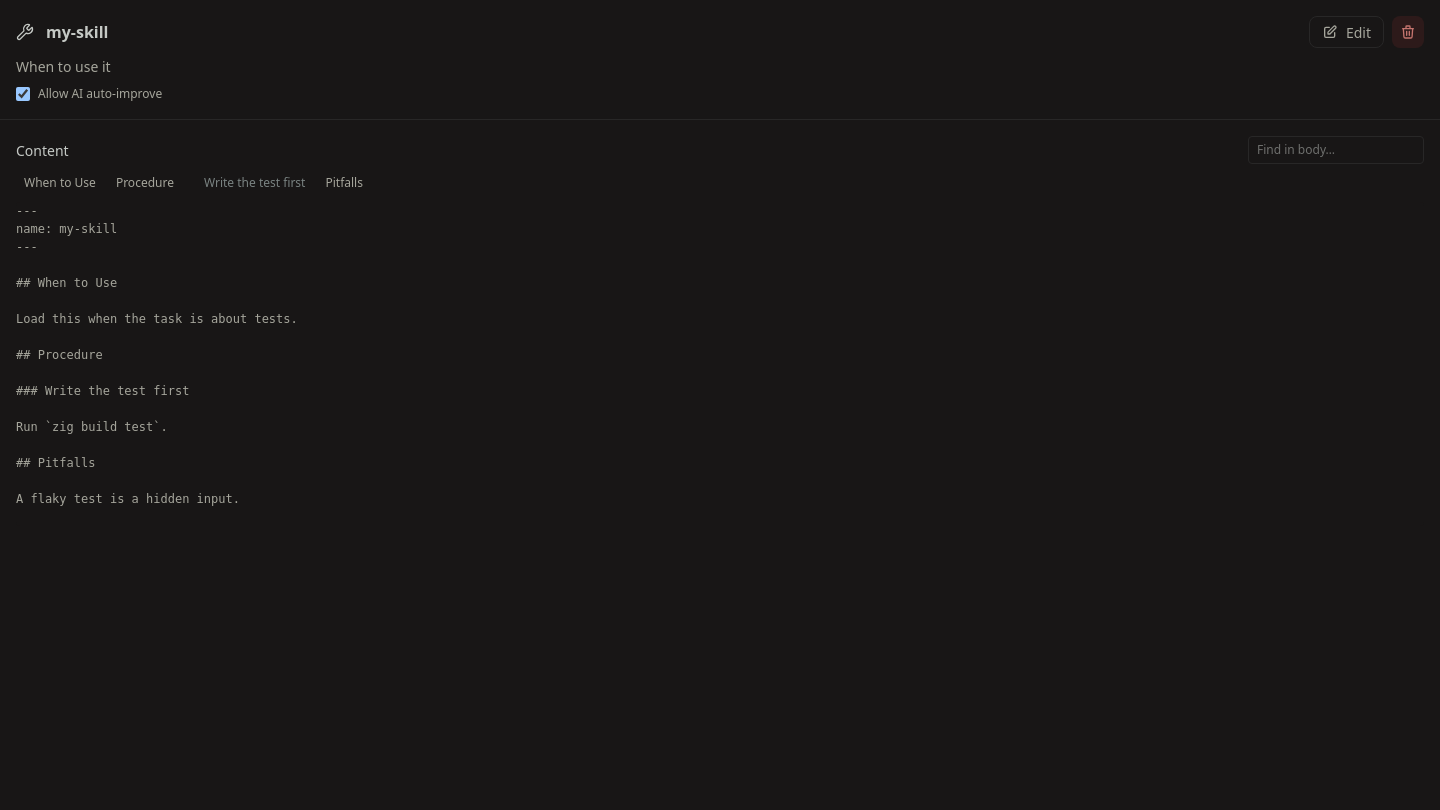
Scenario: SkillDetail — finding text in the body › lists every line containing the term
The width and height of the screenshot is (1440, 810).
Type "test" into the field with test id "skill-body-find".
click(1336, 150); type("test")  # box [1248, 136, 1424, 164]
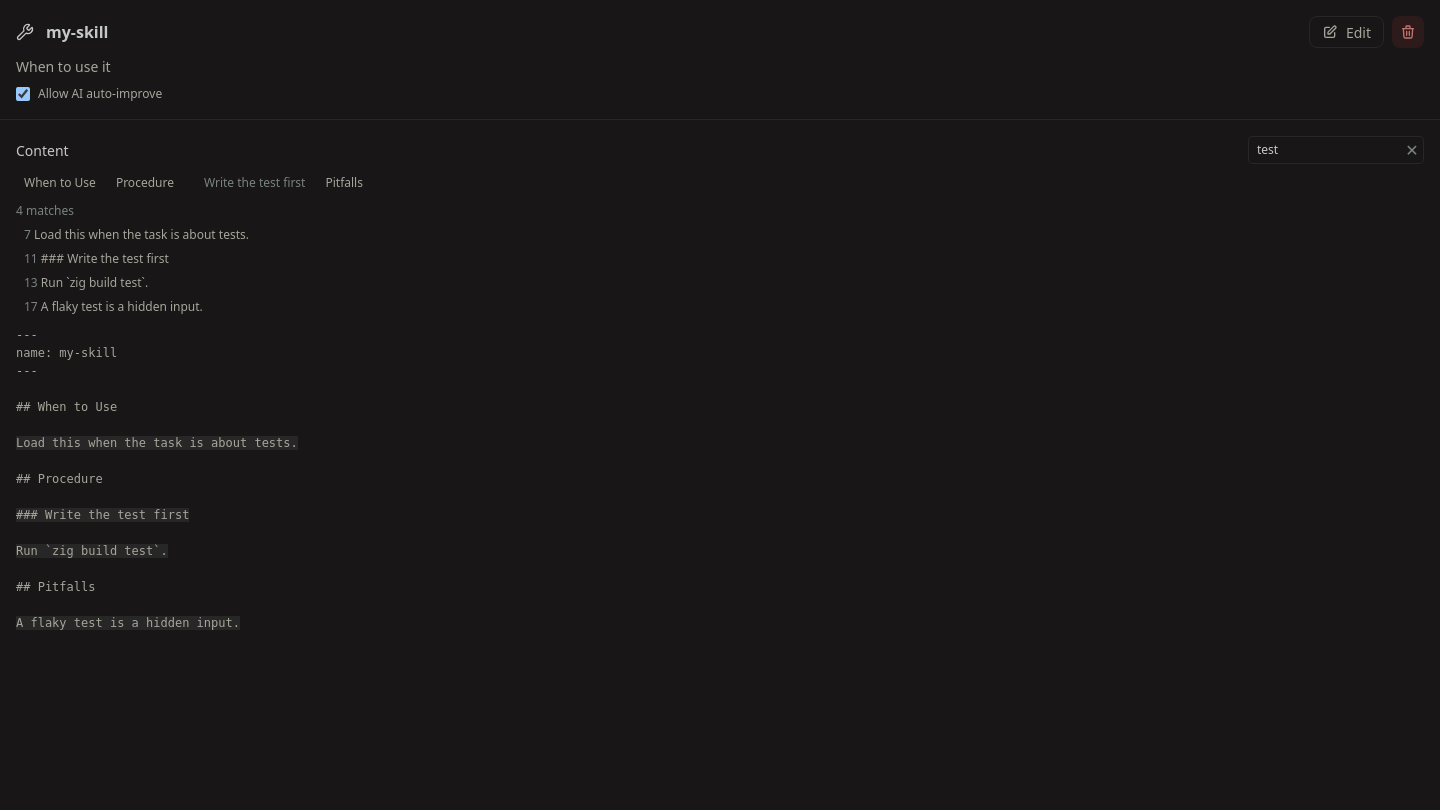
expect the element with test id "skill-body-hits" is shown: met, box [0, 202, 1439, 326]
expect the element with test id "skill-body-hits" shows "matches": met, box [16, 202, 74, 219]
